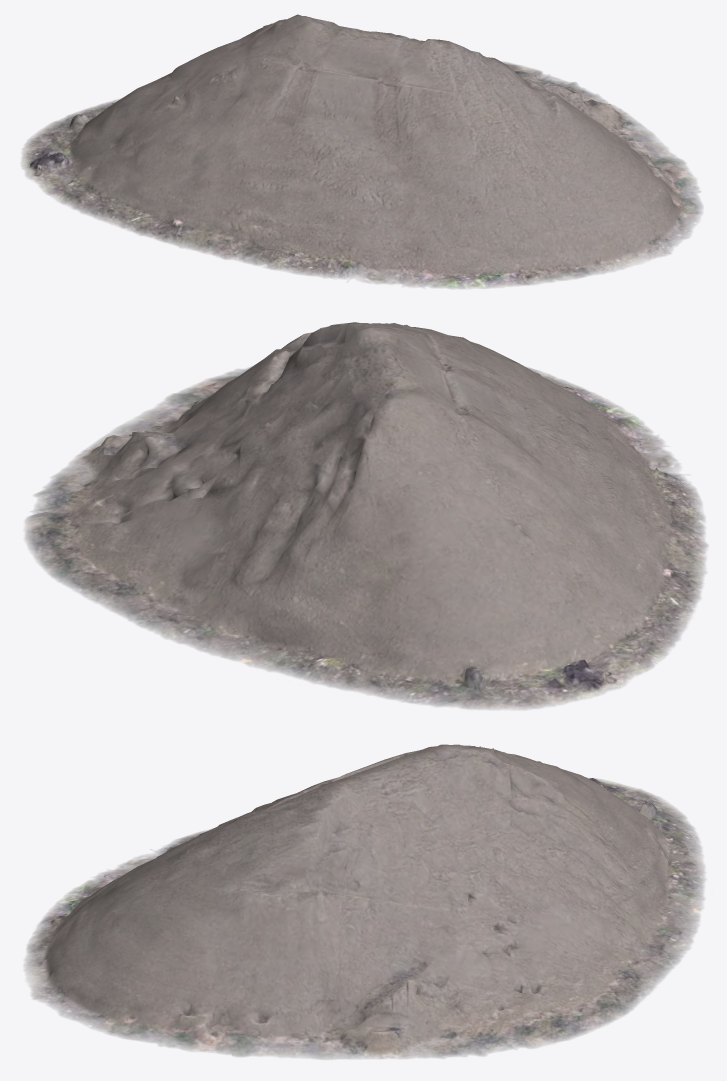
File: PRP_SaltPile.glb
3 views of the same model, one above another, from view 1: azimuth 30°, elevation 25°; view 2: azimuth 150°, elevation 25°; view 3: azimuth 270°, elevation 25° (orthographic). The views are drawn at different scales.
Visible parts, largest first — view 1: hromada_pisek_01_30k_hromada_pisek_01_30k_Material_0; view 2: hromada_pisek_01_30k_hromada_pisek_01_30k_Material_0; view 3: hromada_pisek_01_30k_hromada_pisek_01_30k_Material_0.
Part boxes in pixels (box(x1,y1,x2,y2)): hromada_pisek_01_30k_hromada_pisek_01_30k_Material_0: box(21, 14, 702, 289); hromada_pisek_01_30k_hromada_pisek_01_30k_Material_0: box(24, 322, 708, 709); hromada_pisek_01_30k_hromada_pisek_01_30k_Material_0: box(24, 744, 705, 1059).
Bounding box in the file's own units: 5.12 × 1.27 × 5.15.
1 material, 1 textured.
